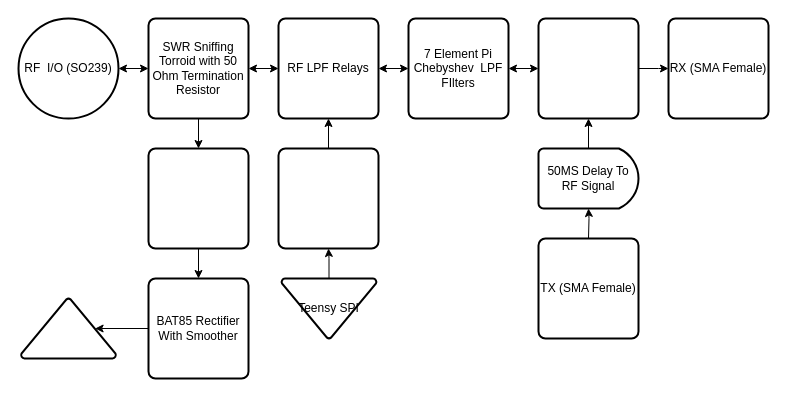
This 786x396 diagram has some shape labels left out. Each missing label, with the box of its shape:
20DB Pi Resistor Attenuator: (147, 147, 249, 249)
RF RX/TX Relays: (537, 17, 639, 119)
SWR To Teensy: (20, 297, 116, 359)
TPIC6B595 SPI Shift Registor: (277, 147, 379, 249)
